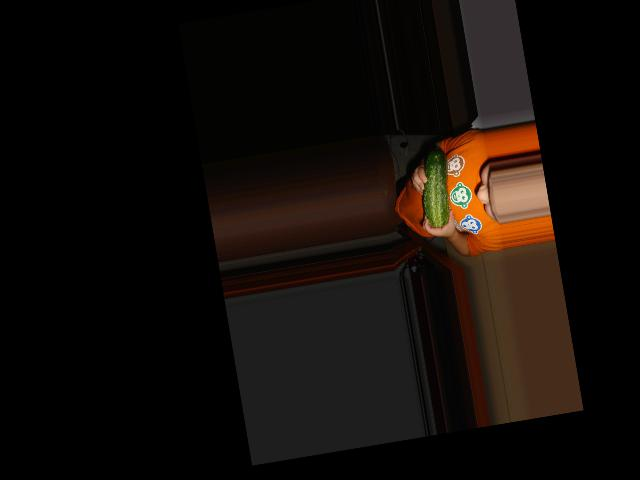cucumber: (414, 146, 457, 230)
